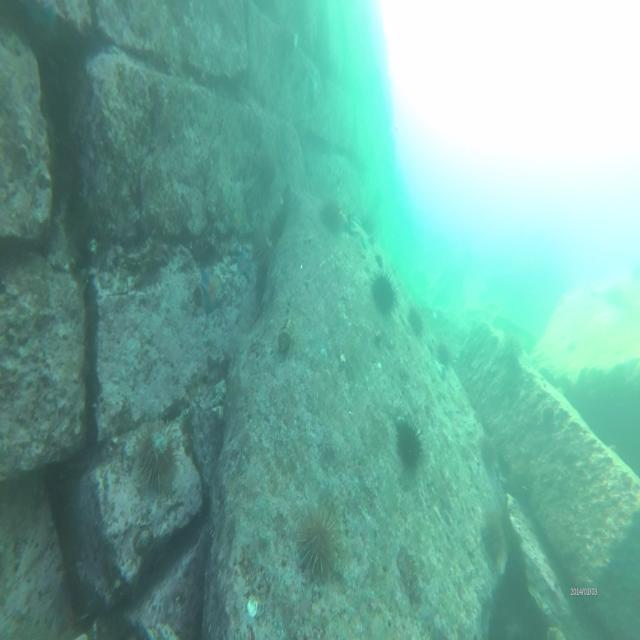echinus: (294, 493, 345, 581), (136, 416, 182, 492), (394, 409, 428, 469), (481, 498, 508, 566), (371, 264, 400, 316), (319, 193, 344, 234), (406, 301, 427, 338), (479, 431, 497, 467), (436, 338, 450, 365)
starfish: (197, 266, 225, 313), (233, 243, 253, 287)
